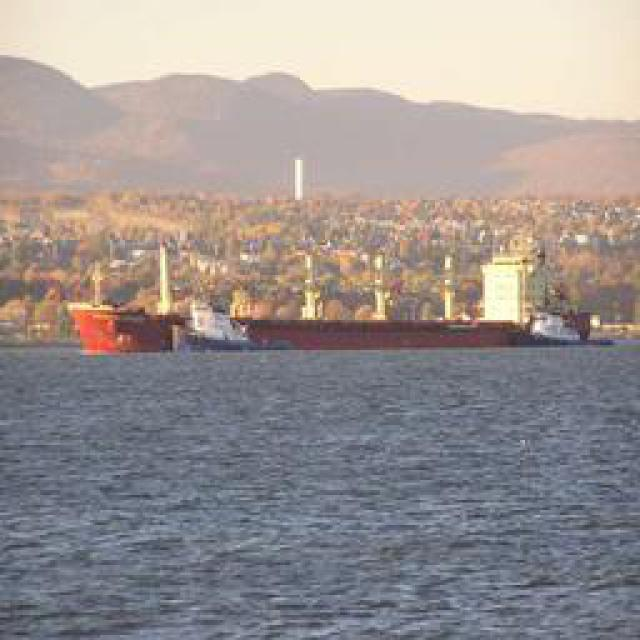Ship: (54, 257, 600, 360), (179, 312, 259, 352)
